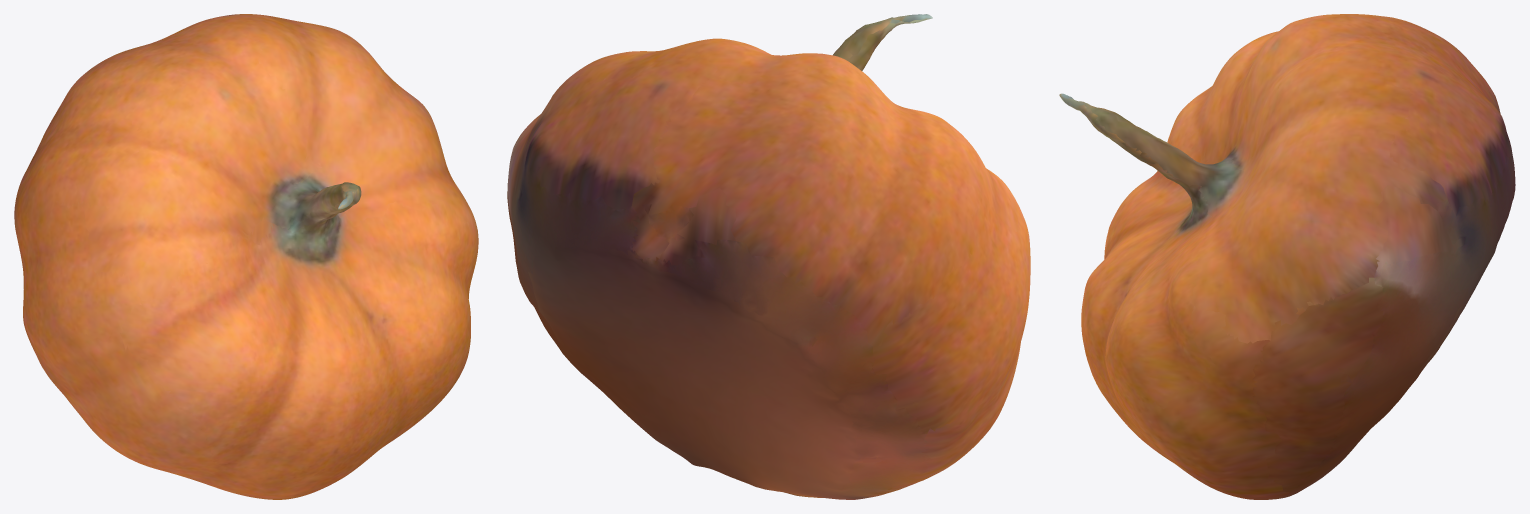
Rendered from pumpkin_3dst23.glb.
3 renders of one model, left to right at view 1: azimuth 30°, elevation 25°; view 2: azimuth 150°, elevation 25°; view 3: azimuth 270°, elevation 25°, orthographic. The views are drawn at different scales.
Parts seen in each view (by area): view 1: Object_2; view 2: Object_2; view 3: Object_2.
Part boxes in pixels (x1,y1,x2,y2): Object_2: (14, 14, 478, 499); Object_2: (507, 14, 1030, 499); Object_2: (1059, 14, 1515, 499).
Size of the model in its own units: 0.0915 by 0.0884 by 0.083.
1 material, 1 textured.
